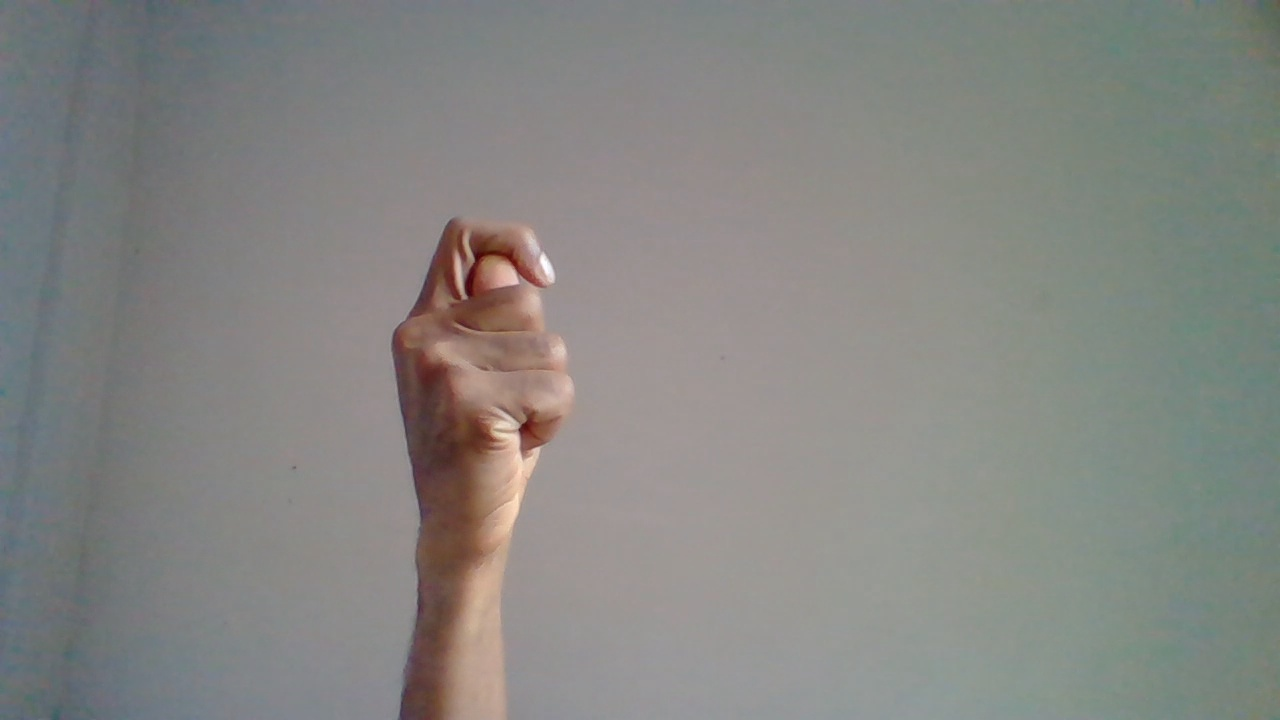che: (383, 216, 576, 705)
